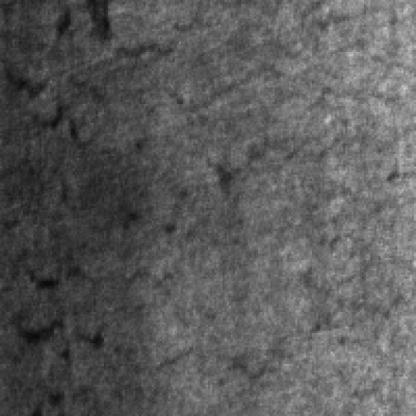crazing: (232, 253, 416, 384), (16, 262, 200, 381)
